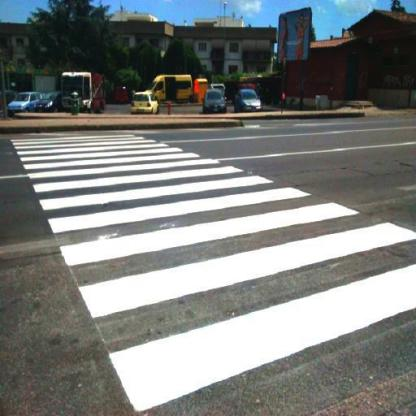crosswalk: (45, 185, 364, 271), (17, 145, 207, 173)
